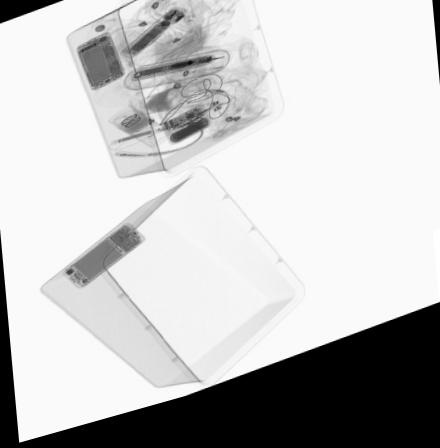Powerbank: (159, 112, 212, 154)
